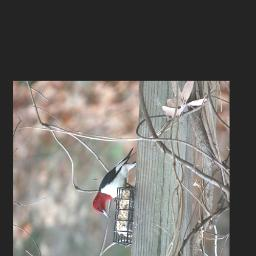Woodpecker: (88, 145, 141, 221)
